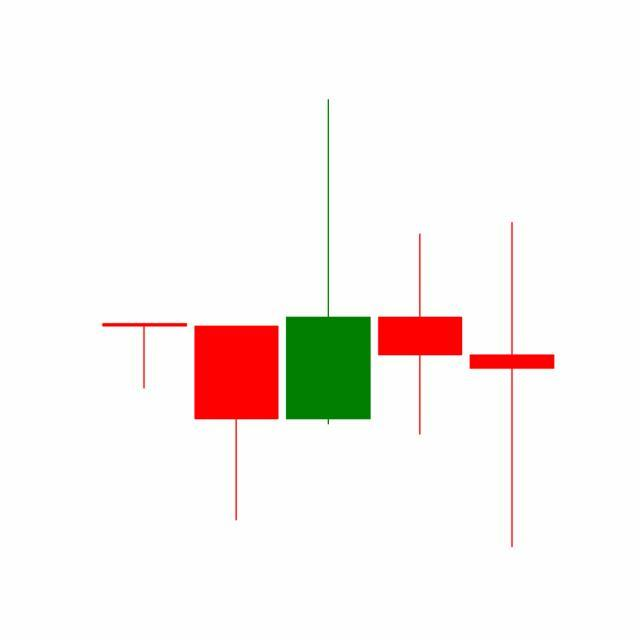Spinning Top: (466, 219, 559, 552)
